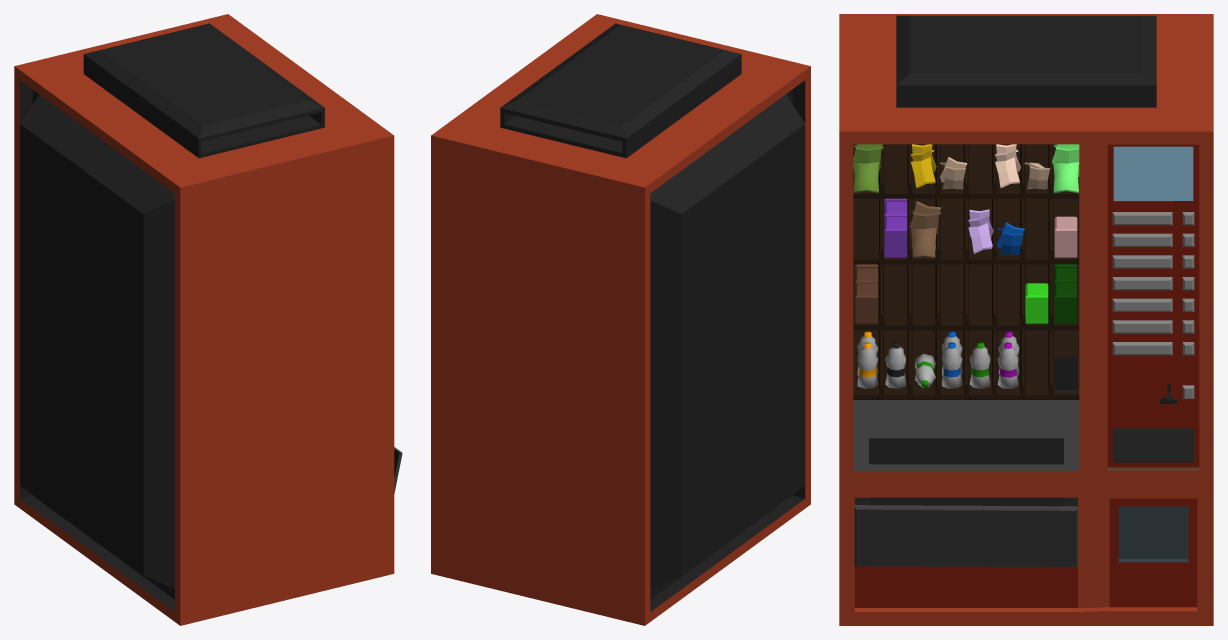
File: vending.glb
The picture shows the model from 3 angles, left to right: view 1: azimuth 30°, elevation 25°; view 2: azimuth 150°, elevation 25°; view 3: azimuth 270°, elevation 25°; orthographic projection. The views are drawn at different scales.
Parts seen in each view (by area): view 1: VendingBox1; view 2: VendingBox1; view 3: VendingBox1, VendingStuff2, VendingStuff1, VendingStuff3, VendingBox2.
Boxes of the visible parts, box(x1,y1,x2,y2) form: VendingBox1: box(14, 14, 402, 625); VendingBox1: box(431, 14, 810, 625); VendingBox1: box(839, 14, 1213, 625); VendingStuff2: box(855, 201, 1048, 388); VendingStuff1: box(853, 144, 1077, 388); VendingStuff3: box(857, 144, 1079, 388); VendingBox2: box(1054, 357, 1077, 392).
Size of the model in its own units: 0.8015 by 1.45 by 0.9391.
1 material, 1 textured.
